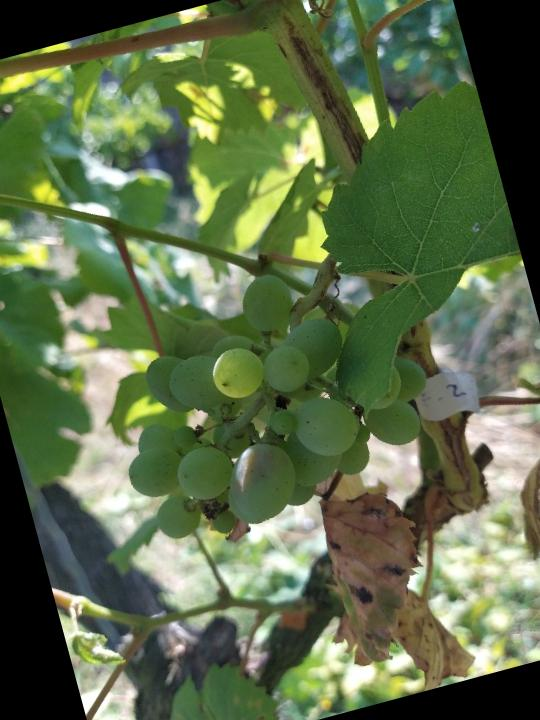grape: (82, 238, 457, 557)
